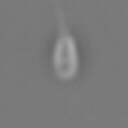normal: (46, 1, 74, 36)
